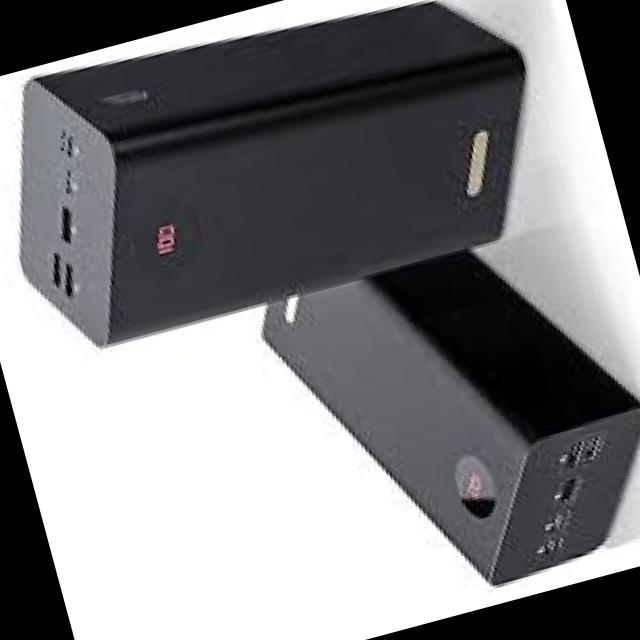portable-charger: (0, 0, 569, 365), (251, 219, 640, 625)
